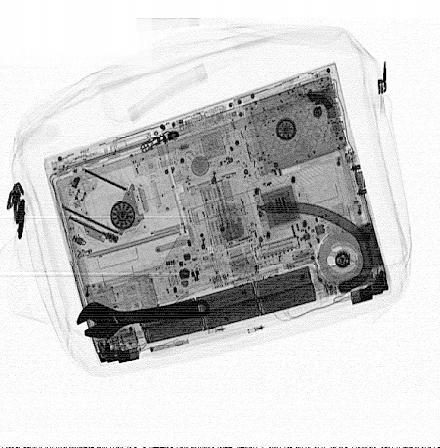Wrench: (76, 298, 211, 341)
